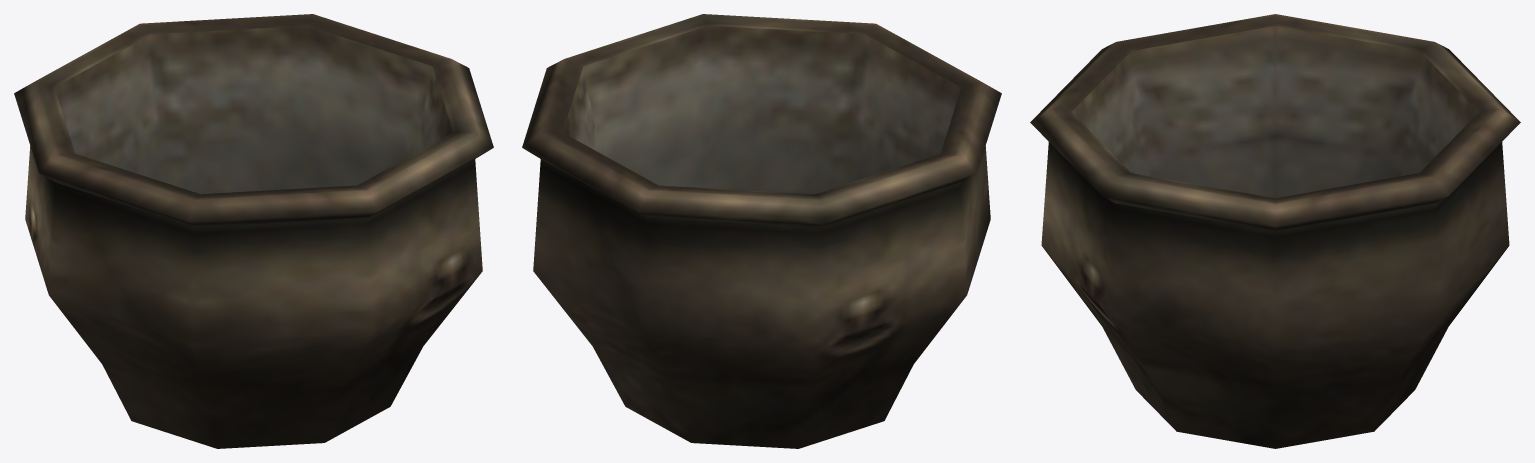
Rendered from ZW_ddg.FBX.
3 views of the same model, side by side, from view 1: azimuth 30°, elevation 25°; view 2: azimuth 150°, elevation 25°; view 3: azimuth 270°, elevation 25° (orthographic).
Parts seen in each view (by area): view 1: ZW_ddg; view 2: ZW_ddg; view 3: ZW_ddg.
Boxes of the visible parts, bbox=[...] form: ZW_ddg: bbox=[14, 14, 493, 448]; ZW_ddg: bbox=[522, 14, 1001, 448]; ZW_ddg: bbox=[1030, 14, 1520, 448].
Size of the model in its own units: 255 by 161 by 255.
